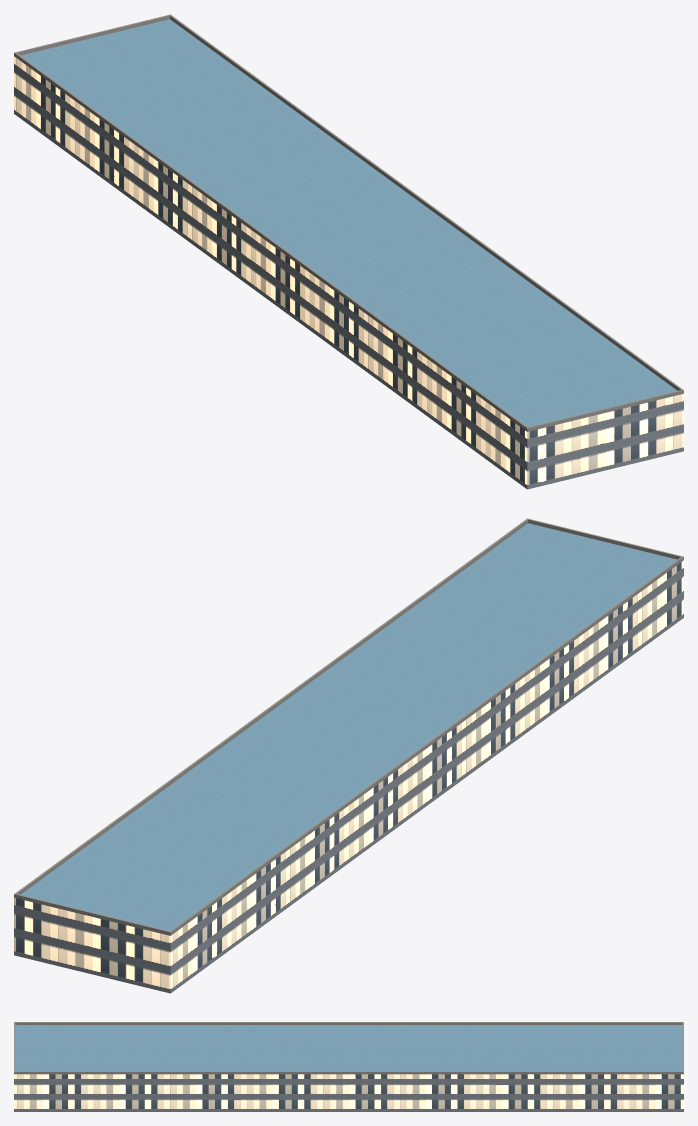
The model's file is khsv_concourse.glb.
3 renders of one model, top to bottom at view 1: azimuth 30°, elevation 25°; view 2: azimuth 150°, elevation 25°; view 3: azimuth 270°, elevation 25°, orthographic. The views are drawn at different scales.
Parts seen in each view (by area): view 1: khsv_concourse_roof, khsv_concourse_glass_wall, khsv_concourse_coping; view 2: khsv_concourse_roof, khsv_concourse_glass_wall, khsv_concourse_coping; view 3: khsv_concourse_roof, khsv_concourse_glass_wall, khsv_concourse_coping.
Part boxes in pixels (<box>): khsv_concourse_roof: <box>20,19,677,427</box>; khsv_concourse_glass_wall: <box>14,56,683,489</box>; khsv_concourse_coping: <box>14,14,683,431</box>; khsv_concourse_roof: <box>20,523,677,931</box>; khsv_concourse_glass_wall: <box>14,560,683,993</box>; khsv_concourse_coping: <box>14,518,683,935</box>; khsv_concourse_roof: <box>15,1025,682,1071</box>; khsv_concourse_glass_wall: <box>14,1074,683,1111</box>; khsv_concourse_coping: <box>14,1022,683,1074</box>.
Bounding box in the file's own units: 37 × 13.8 × 210.
Materials: 3 (3 with a texture image).
